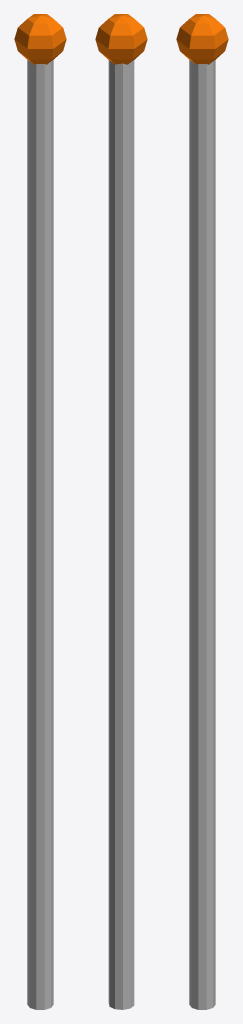
Rendered from StreetLamp.obj.
3 views of the same model, side by side, from view 1: azimuth 90°, elevation 25°; view 2: azimuth 150°, elevation 25°; view 3: azimuth 270°, elevation 25° (orthographic).
Parts seen in each view (by area): view 1: Cylinder, Sphere; view 2: Cylinder, Sphere; view 3: Cylinder, Sphere.
Boxes of the visible parts, x1,y1,x2,y2 form: Cylinder: (27,60,53,1009); Sphere: (14,14,66,64); Cylinder: (108,60,134,1009); Sphere: (95,14,147,64); Cylinder: (189,60,215,1009); Sphere: (176,14,228,64).
Bounding box in the file's own units: 0.6928 × 16.7 × 0.8.
